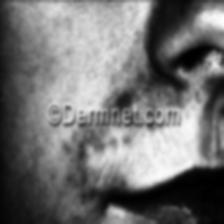Non-Cancerous Skin Condition: (76, 0, 220, 101), (67, 128, 213, 224)
